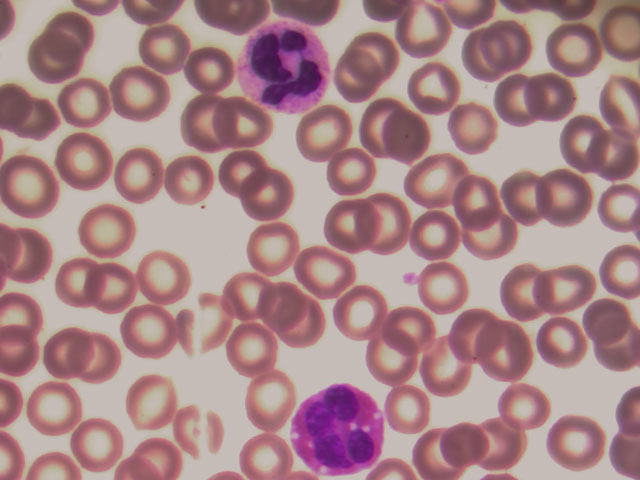Platelets: (399, 265, 421, 287)
RBC: (234, 422, 299, 480), (69, 411, 134, 469), (237, 370, 302, 428), (226, 321, 291, 379), (172, 288, 237, 346), (219, 263, 284, 321), (252, 273, 317, 331), (274, 296, 339, 354), (329, 283, 394, 341), (361, 193, 426, 251), (315, 200, 380, 258), (478, 318, 543, 376), (416, 258, 481, 316), (354, 329, 419, 387), (387, 301, 452, 359), (411, 335, 476, 393), (445, 303, 510, 361), (373, 381, 438, 439), (402, 422, 467, 480), (439, 408, 504, 466), (475, 417, 540, 475), (495, 376, 560, 434), (544, 411, 609, 469), (531, 317, 596, 375), (537, 262, 602, 320), (496, 260, 561, 318), (467, 210, 532, 268), (406, 207, 471, 265), (405, 151, 470, 209), (326, 148, 391, 206), (289, 102, 354, 160), (240, 173, 305, 231), (239, 219, 304, 277), (219, 139, 284, 197), (226, 96, 291, 154), (176, 94, 241, 152), (174, 41, 239, 99), (131, 19, 196, 77), (383, 109, 448, 167), (356, 92, 421, 150), (407, 58, 472, 116), (441, 96, 506, 154), (452, 169, 517, 227), (498, 165, 563, 223), (530, 167, 595, 225), (575, 181, 640, 239), (549, 116, 614, 174), (526, 78, 591, 136), (487, 70, 552, 128), (486, 17, 551, 75), (462, 25, 527, 83), (393, 3, 458, 61), (348, 23, 413, 81), (325, 50, 390, 108), (1, 157, 65, 215), (123, 374, 186, 427), (109, 65, 169, 120), (55, 74, 115, 129), (55, 132, 115, 187), (110, 149, 170, 204), (160, 152, 220, 207), (75, 203, 135, 258), (46, 257, 106, 312), (84, 259, 144, 314), (135, 249, 195, 304), (121, 307, 181, 362), (78, 331, 138, 386), (40, 325, 100, 380), (27, 384, 87, 439), (28, 36, 83, 84), (42, 11, 97, 59)
WBC: (292, 382, 385, 473), (239, 20, 332, 111)
